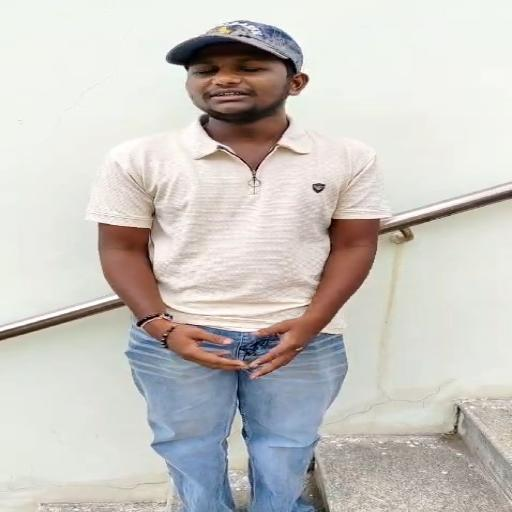employee-detectio-system: (88, 20, 393, 296)
